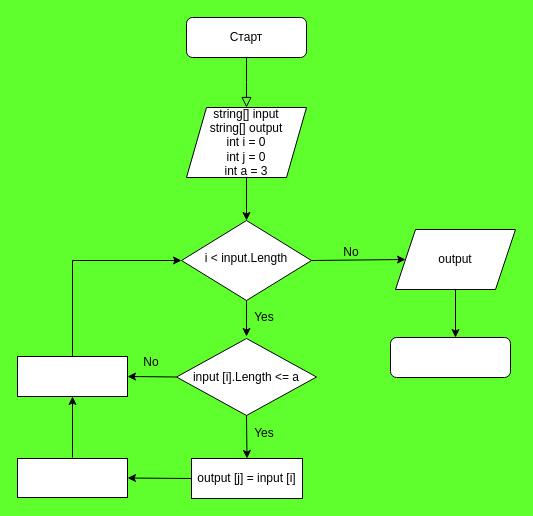
Some shapes in this 533 by 516 pixel diagram are drawn without their labels. The box of each missing label's shape, as (x1, y1, x2, y2) in pixels:
i++: (16, 356, 128, 396)
j++: (16, 458, 128, 498)
Конец: (390, 336, 510, 378)
